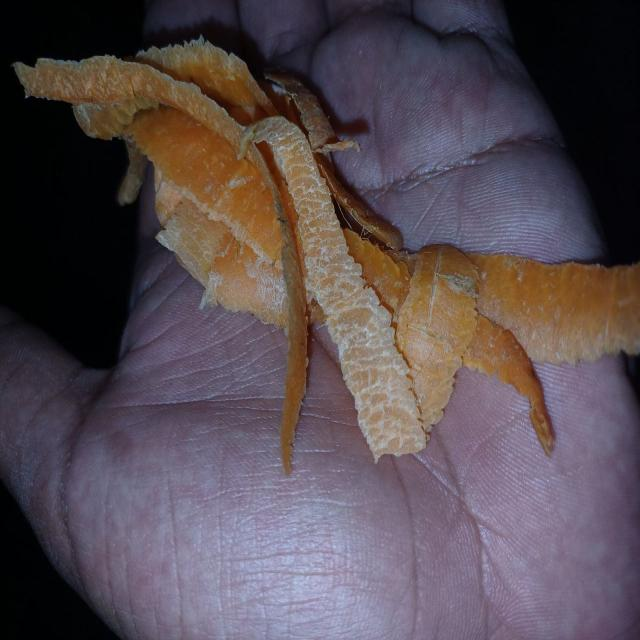organic: (12, 32, 640, 474)
